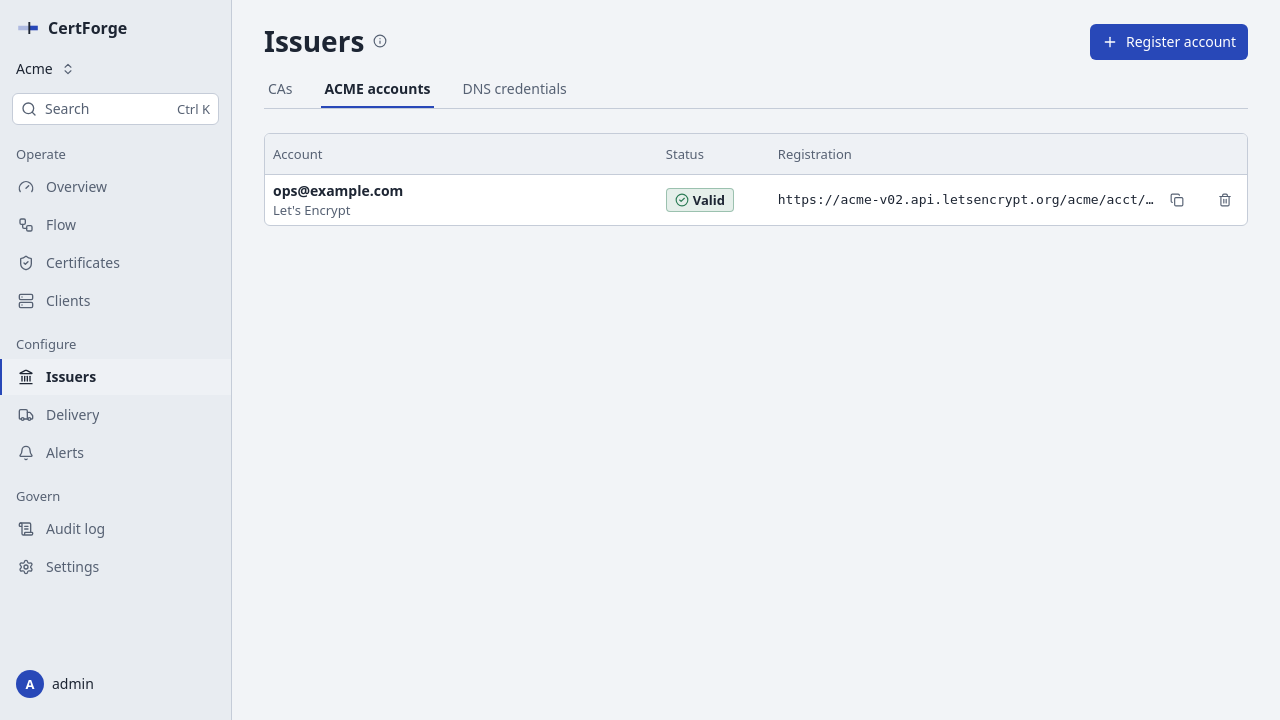
Test case: shows why an account cannot be deleted
Expected: the text "ops@example.com" is shown, [273,180,403,200]
Click the button named "Delete ops@example.com" at (1225, 200), box [1211,186,1239,214]
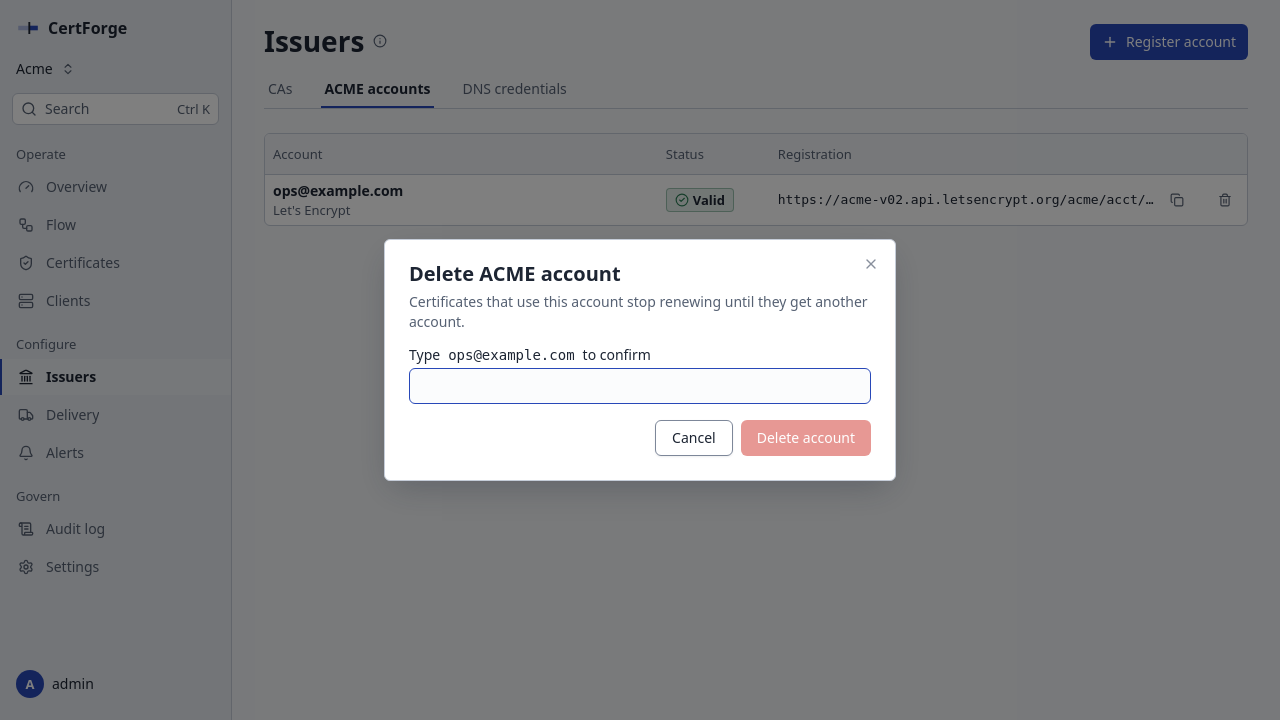
Type "ops@example.com" into the field at (640, 386), box [409,368,871,404]
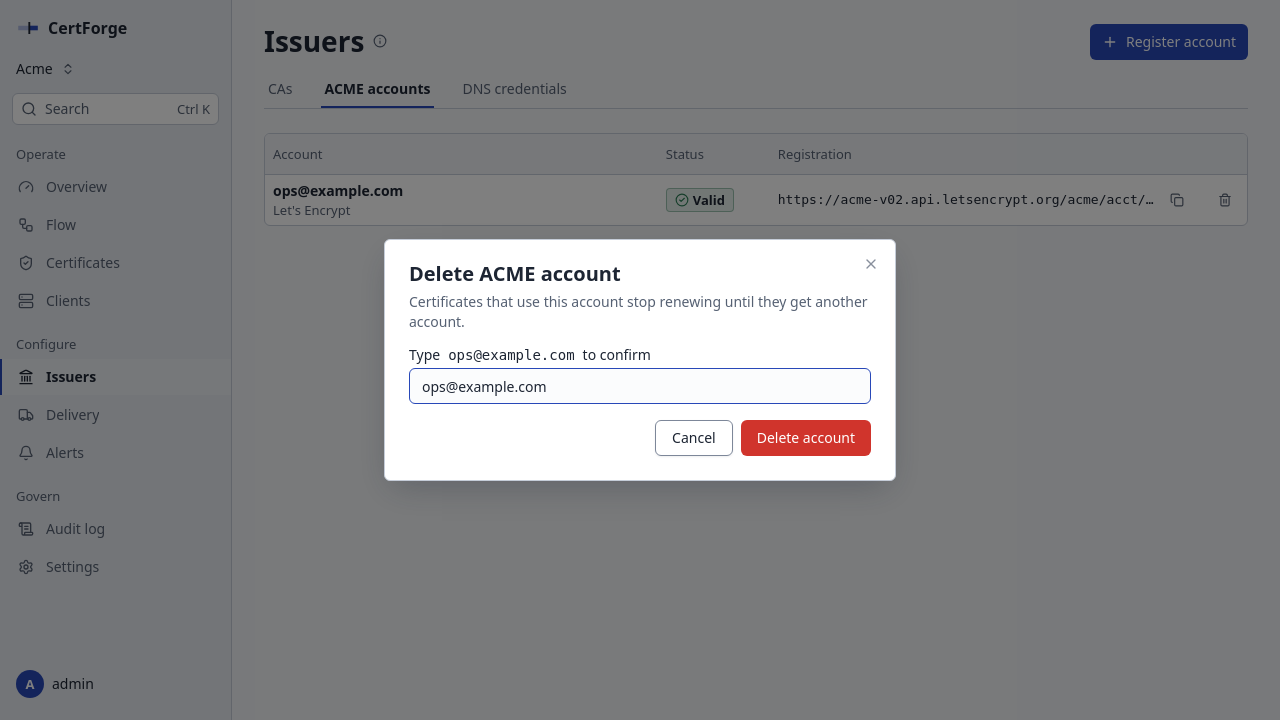
Click the button "Delete account" at (806, 438), box [741,420,871,456]
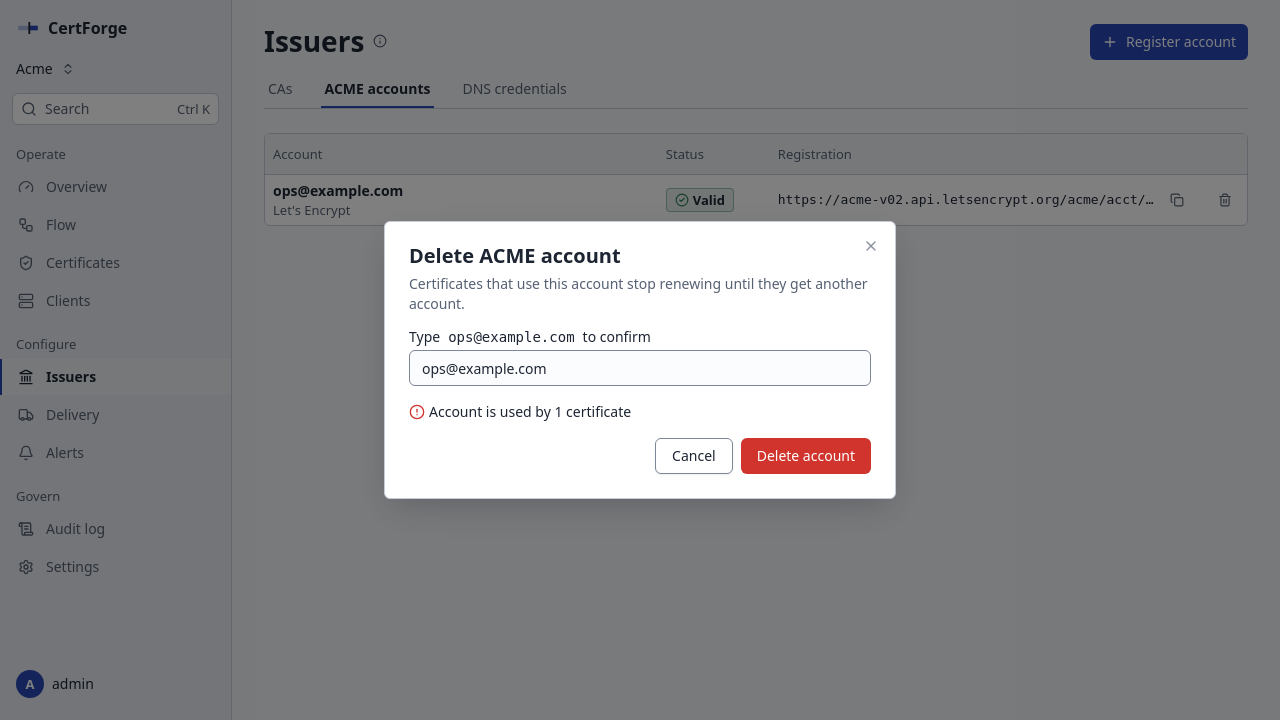
Result: the message reads "Account is used by 1 certificate" at [429,402,631,421]
